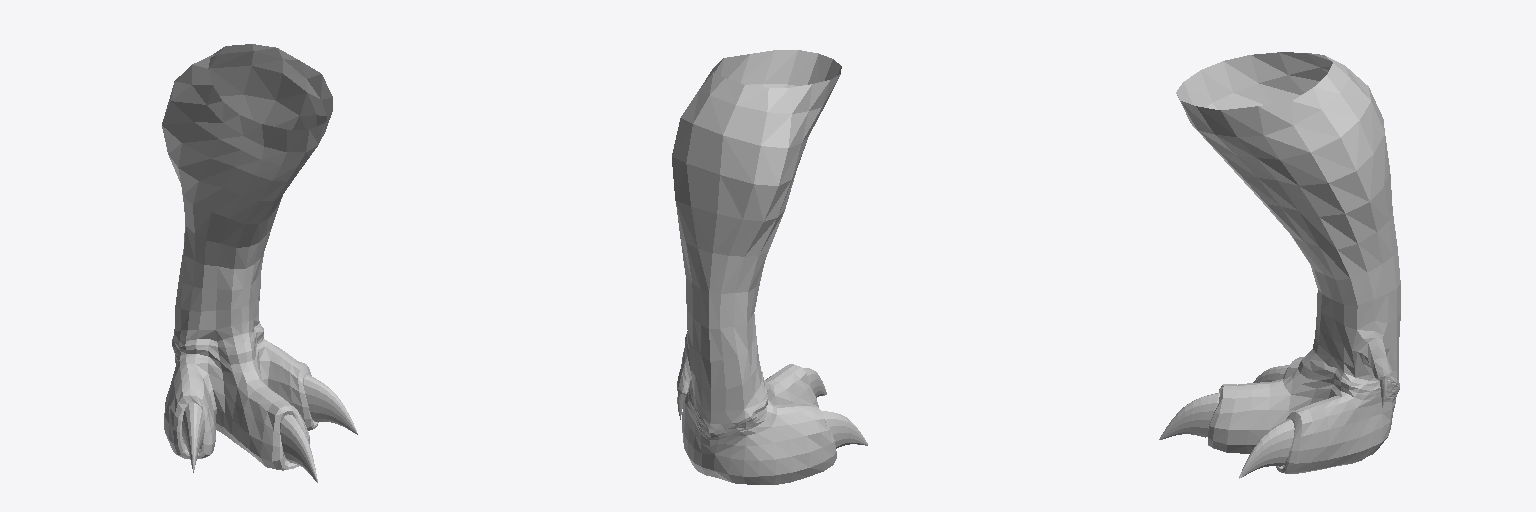
File: rexPataDer.obj
3 renders of one model, left to right at view 1: azimuth 30°, elevation 25°; view 2: azimuth 150°, elevation 25°; view 3: azimuth 270°, elevation 25°, orthographic.
Parts seen in each view (by area): view 1: polySurface237; view 2: polySurface237; view 3: polySurface237.
Boxes of the visible parts, box(x1,y1,x2,y2) form: polySurface237: box(162, 44, 357, 482); polySurface237: box(672, 50, 867, 484); polySurface237: box(1159, 52, 1400, 478).
Size of the model in its own units: 2.35 by 5.27 by 3.02.